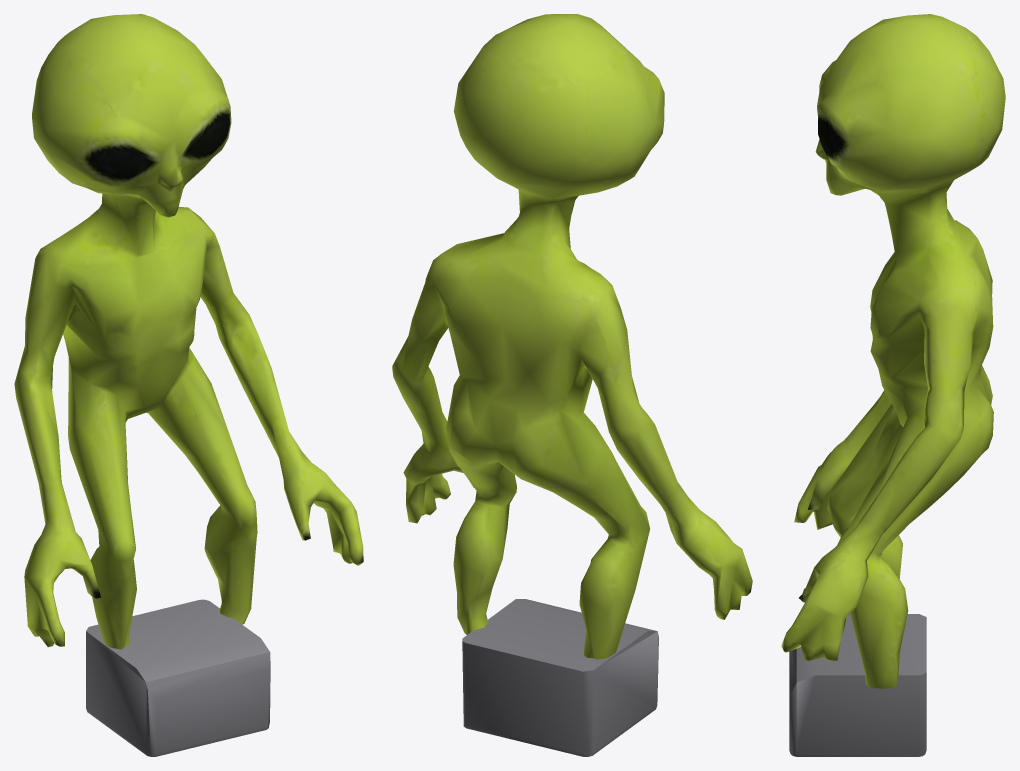
Rendered from alien_media.glb.
3 renders of one model, left to right at view 1: azimuth 30°, elevation 25°; view 2: azimuth 150°, elevation 25°; view 3: azimuth 270°, elevation 25°, orthographic. The views are drawn at different scales.
Visible parts, largest first — view 1: alien; view 2: alien; view 3: alien.
Boxes of the visible parts, left/top/right/bottom form: alien: left=14, top=14, right=363, bottom=756; alien: left=392, top=14, right=752, bottom=756; alien: left=781, top=14, right=1005, bottom=756.
Size of the model in its own units: 0.9502 by 2 by 0.5851.
Materials: 2 (1 with a texture image).
